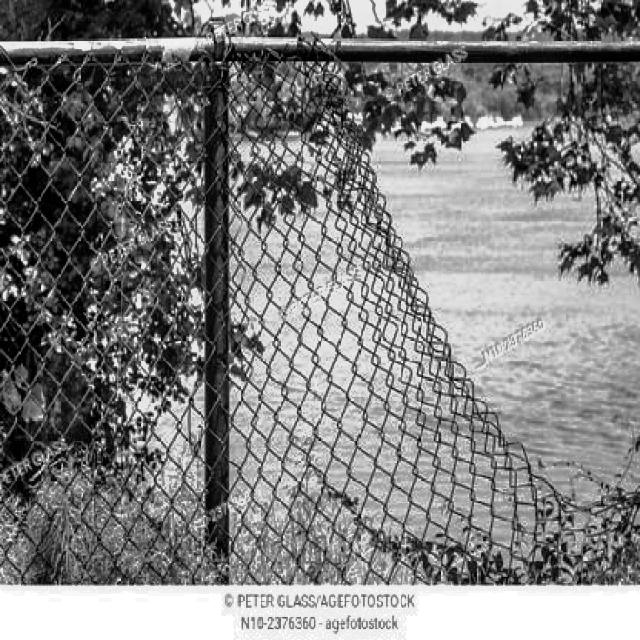anomaly-fence: (317, 22, 640, 516)
